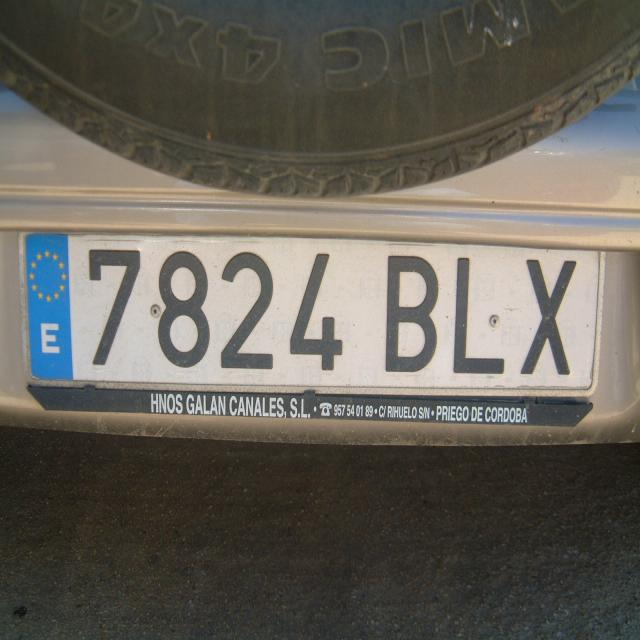license_plate-34Td: (21, 234, 604, 397)
